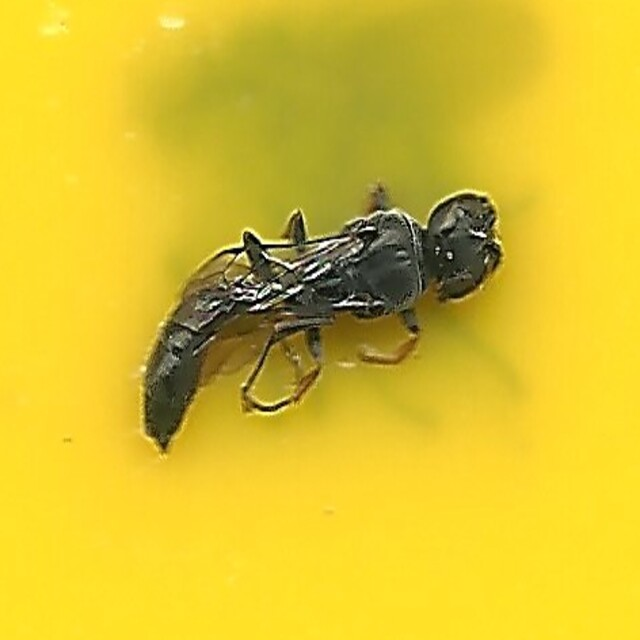Hymenoptera: (136, 180, 504, 460)
